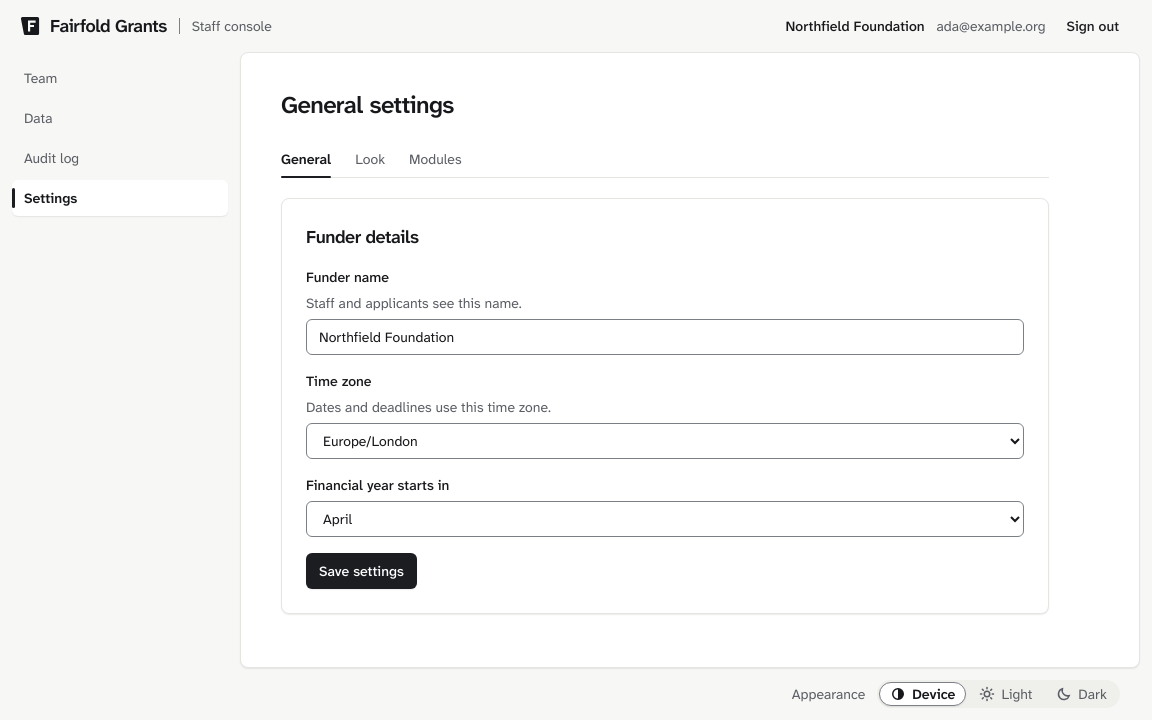
it: the general settings page › saves the changes, says so, and updates the name in the header
Replace the text in the field labelled "Funder name" with "Northfield Community Trust" at [665, 337], box [306, 319, 1024, 355]
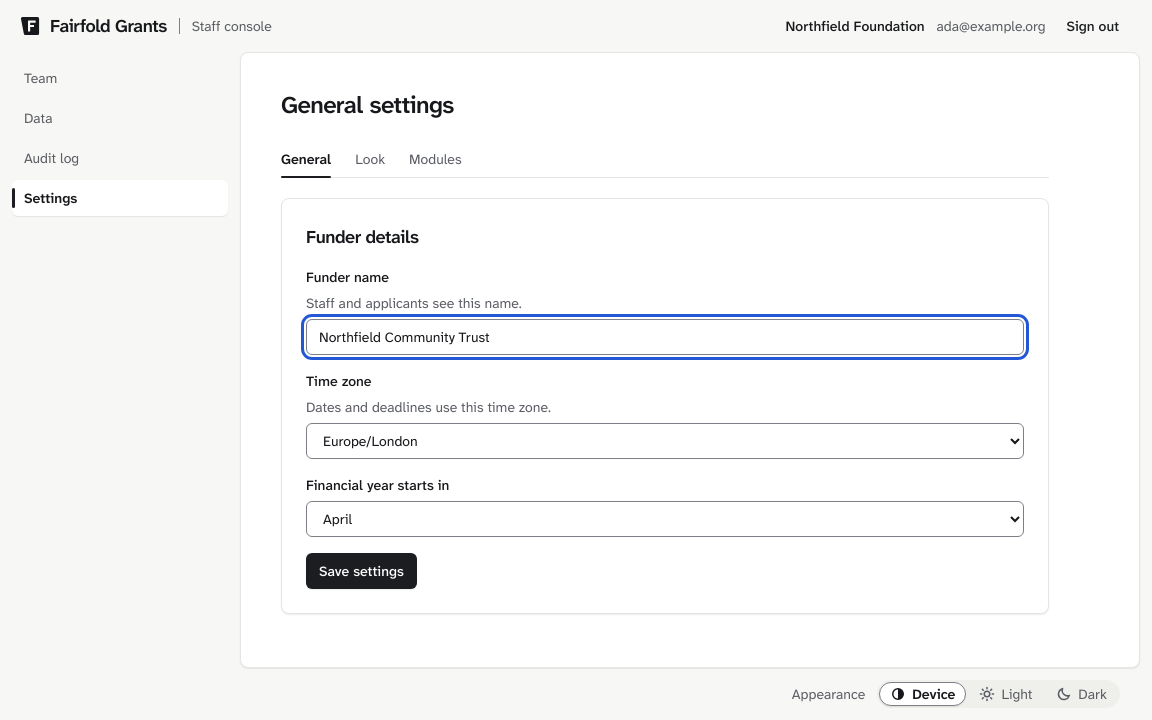
Select "Europe/Paris" in the dropdown labelled "Time zone" at [665, 441], box [306, 423, 1024, 459]
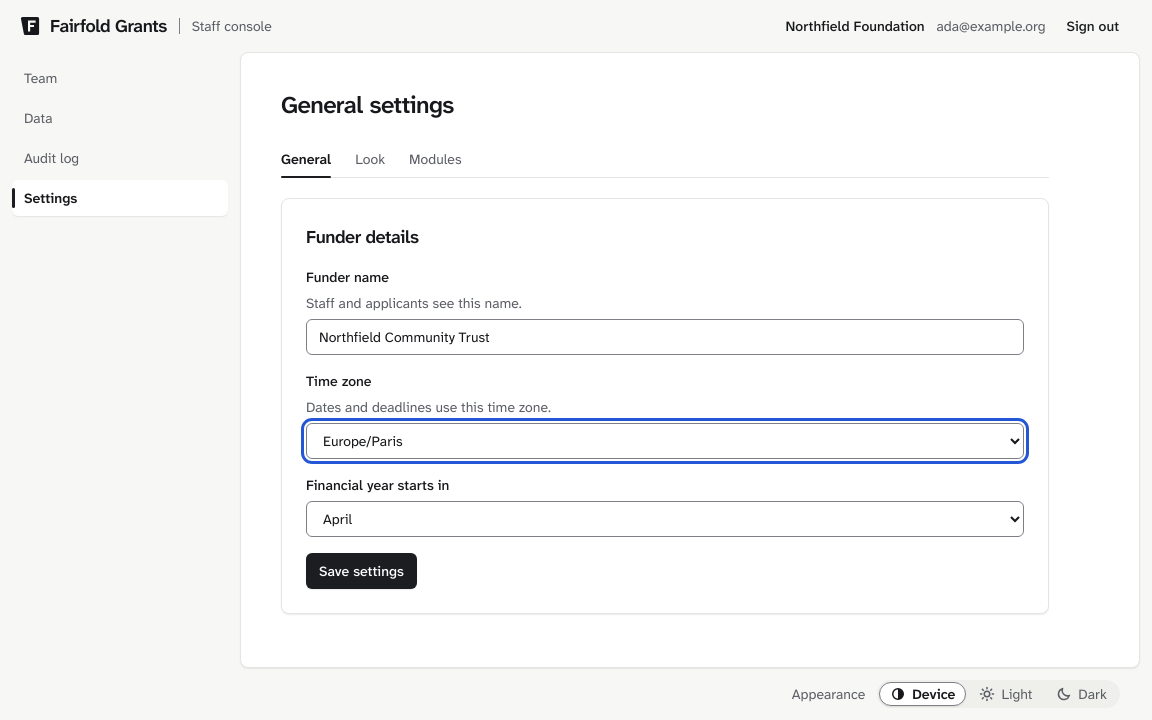
Select "January" in the dropdown labelled "Financial year starts in" at [665, 519], box [306, 501, 1024, 537]
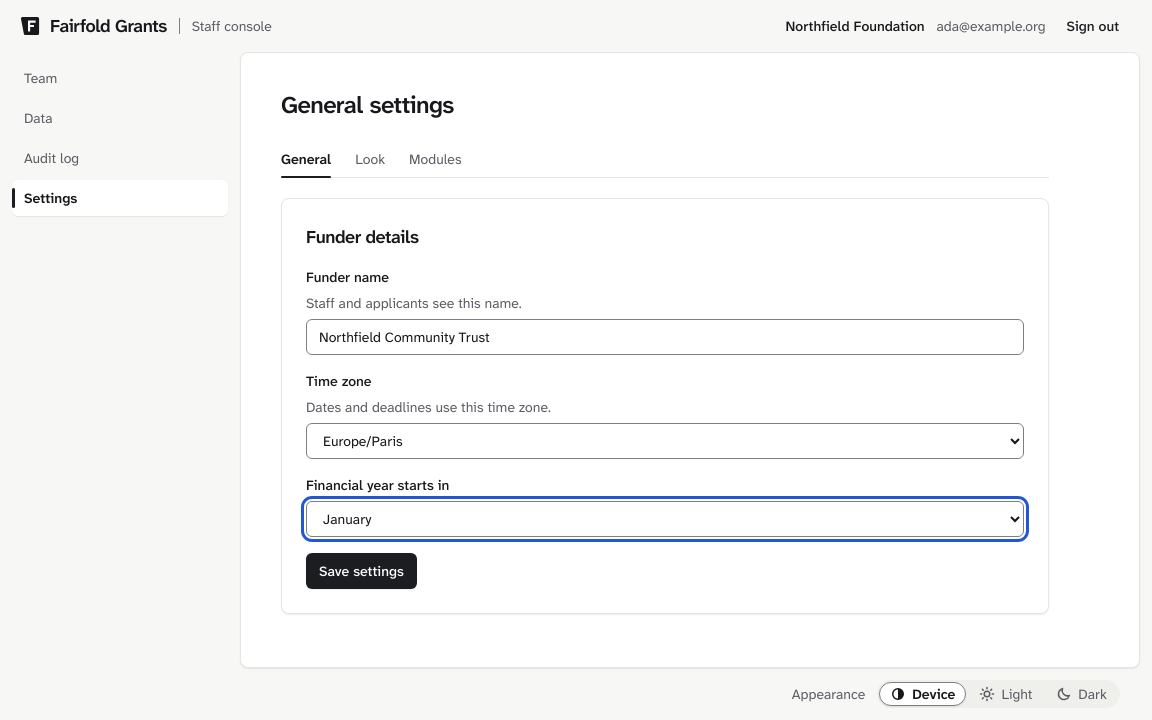
Click the button "Save settings" at [361, 571], box [306, 553, 417, 589]
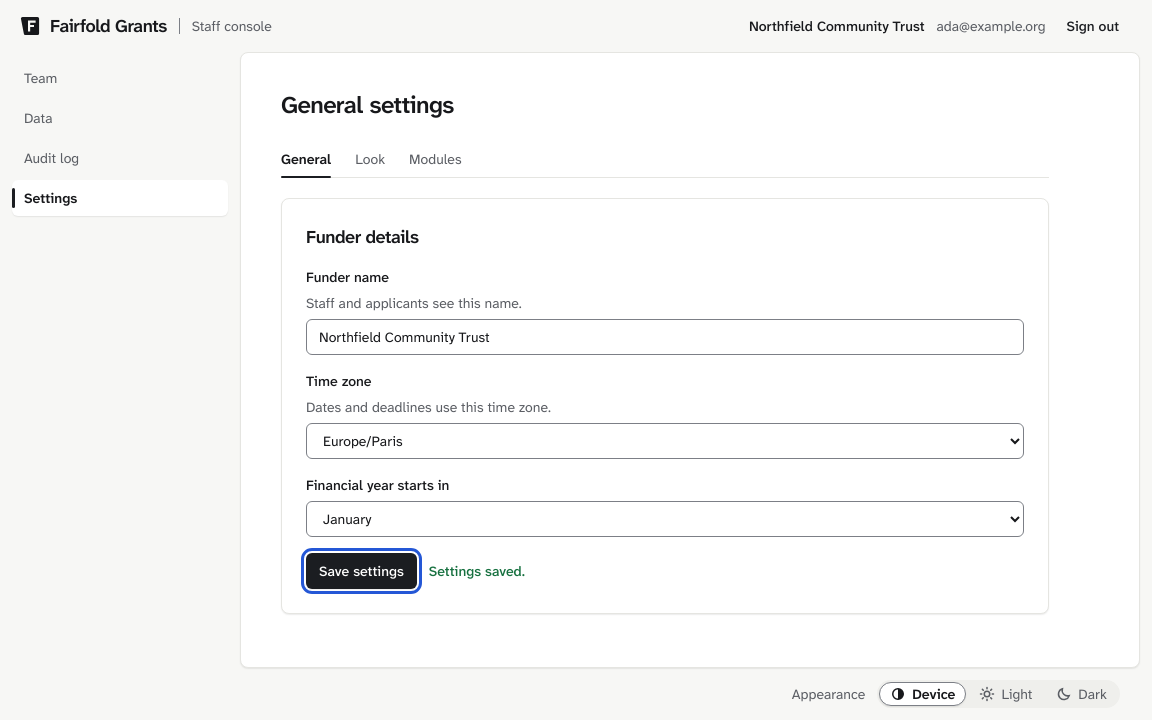
Result: the text "Settings saved." is shown at [429, 561, 525, 581]
Result: the text "Northfield Community Trust" is shown at [749, 16, 925, 36]
